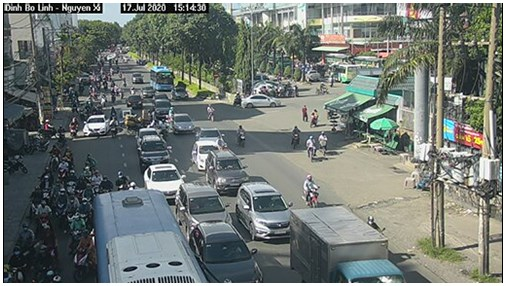di_bo: (310, 105, 320, 124), (302, 104, 309, 123)
xe_buyt: (93, 190, 204, 282), (147, 64, 176, 93)
xe_hoi: (190, 220, 266, 283), (237, 180, 293, 244), (177, 181, 231, 236), (205, 148, 251, 195), (143, 162, 184, 201), (137, 135, 172, 174), (190, 141, 222, 169), (82, 113, 107, 138), (171, 111, 195, 136)
xe_may: (74, 230, 94, 280), (299, 167, 320, 208), (9, 245, 26, 283), (34, 199, 52, 234), (17, 220, 35, 254), (54, 187, 68, 228), (70, 214, 87, 247), (314, 128, 330, 163), (302, 135, 318, 163), (38, 175, 52, 203), (204, 101, 219, 124), (65, 168, 76, 199), (107, 114, 120, 139), (48, 143, 60, 169), (66, 114, 79, 138), (116, 167, 128, 191), (91, 167, 102, 193), (290, 126, 301, 151), (236, 123, 247, 147)
xe_tai: (287, 206, 406, 282)
